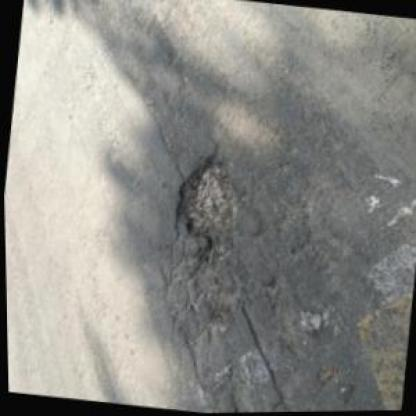pothole: (168, 143, 248, 247), (186, 241, 245, 326)
